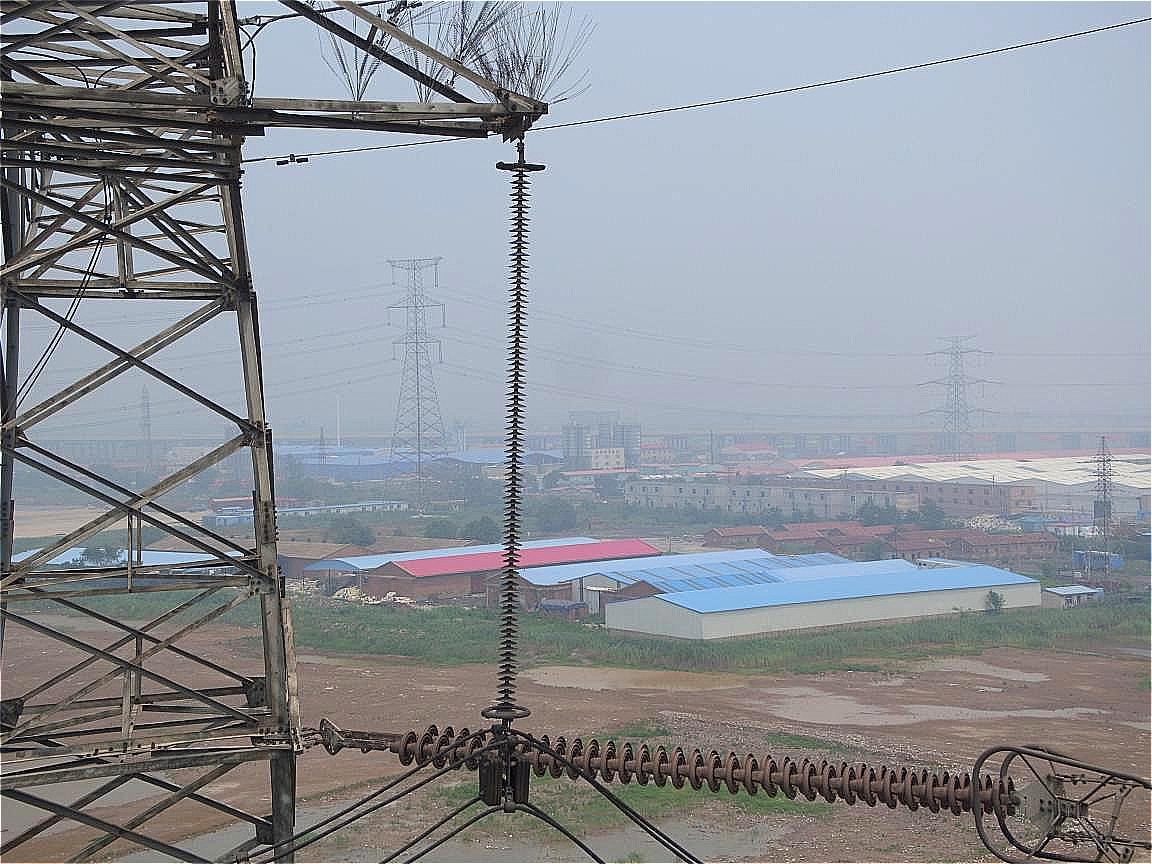insultor1: (398, 728, 1017, 820)
